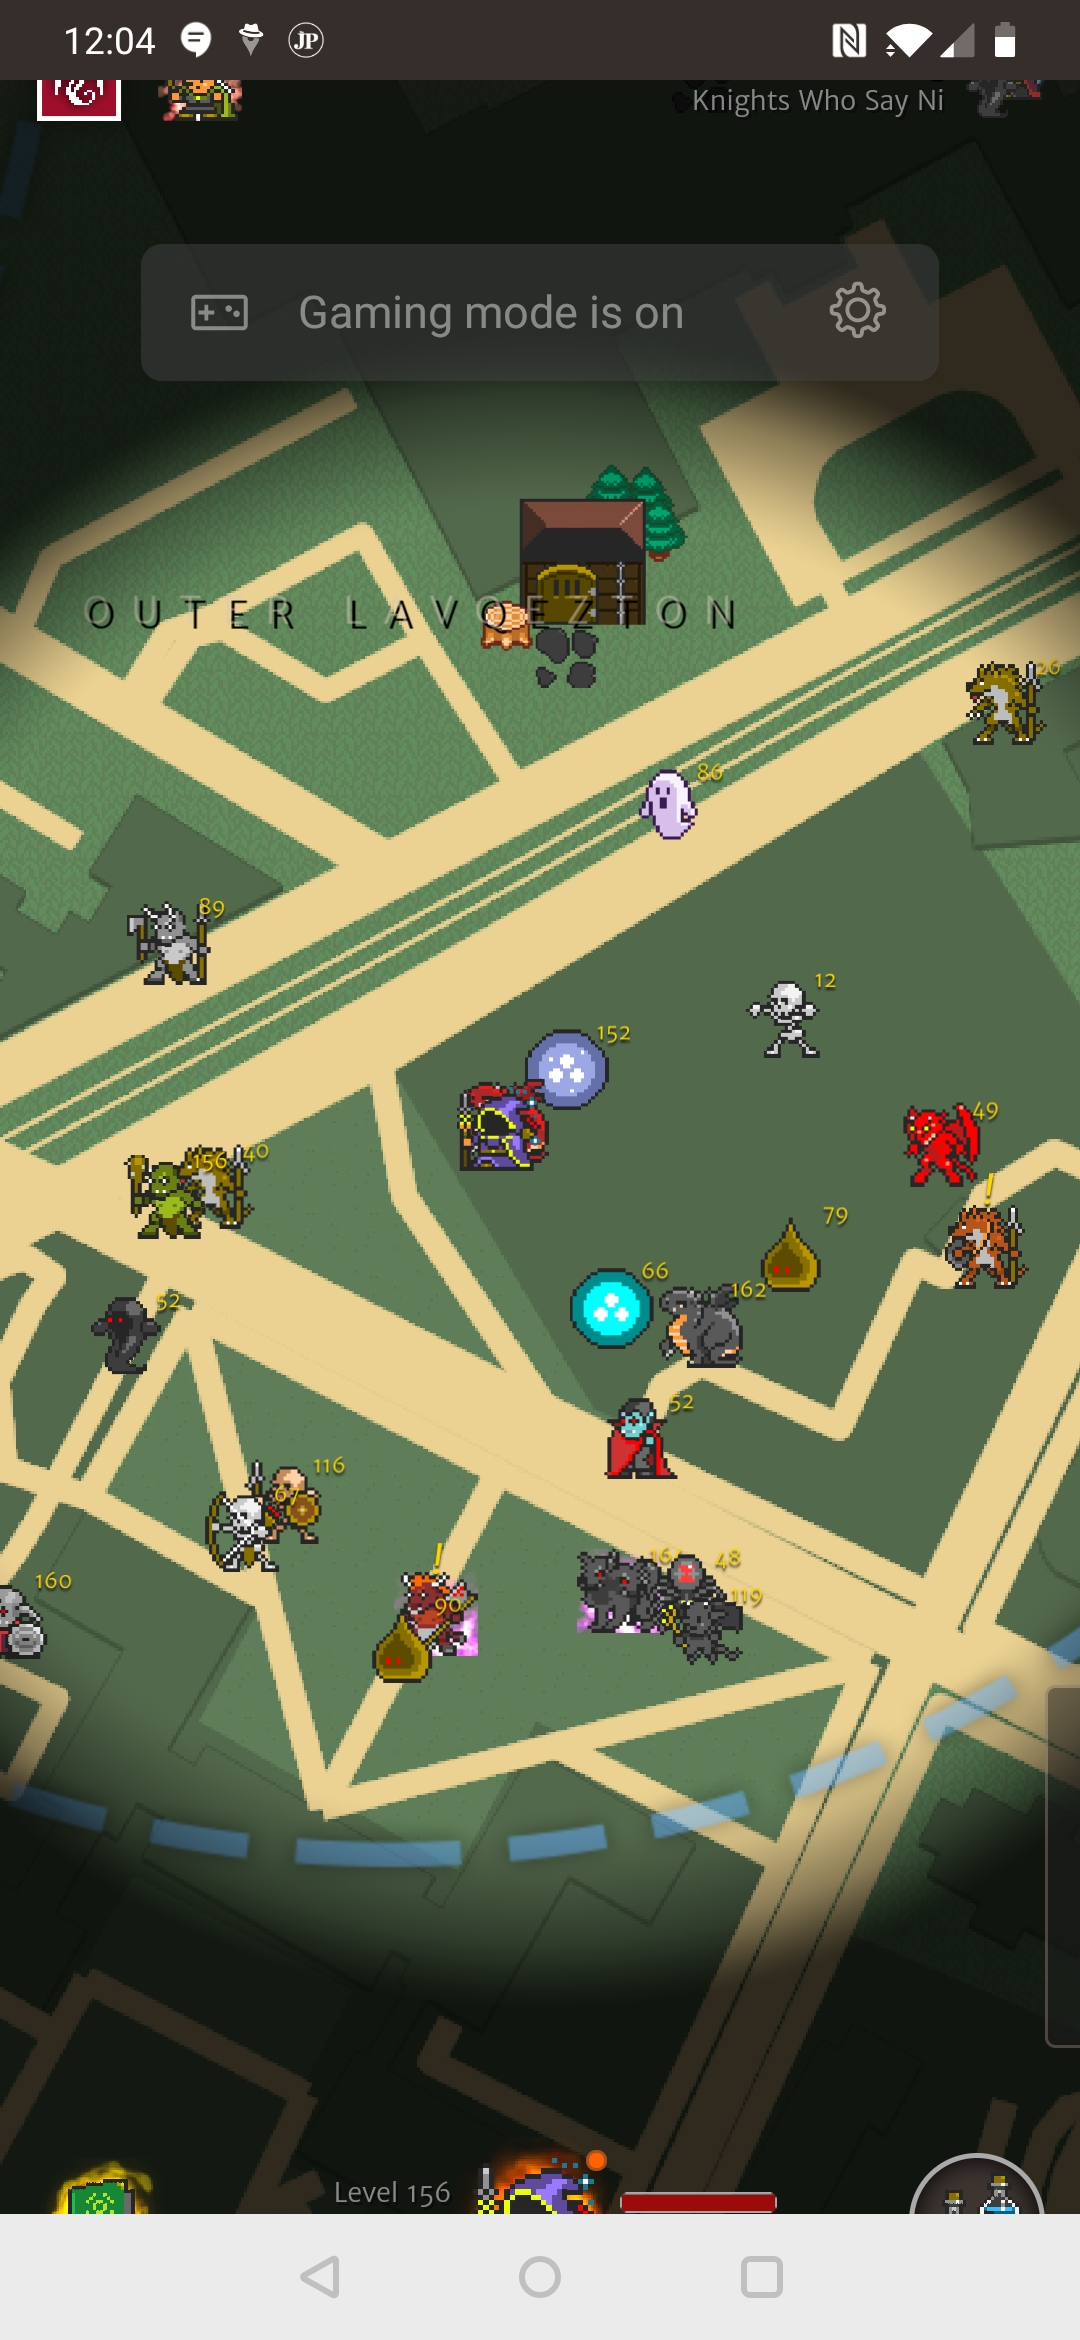monster: (629, 754, 743, 871), (877, 1099, 1005, 1202), (122, 889, 232, 1006), (84, 1285, 195, 1385), (743, 968, 850, 1071), (960, 647, 1053, 747)
player: (450, 1082, 553, 1185)
